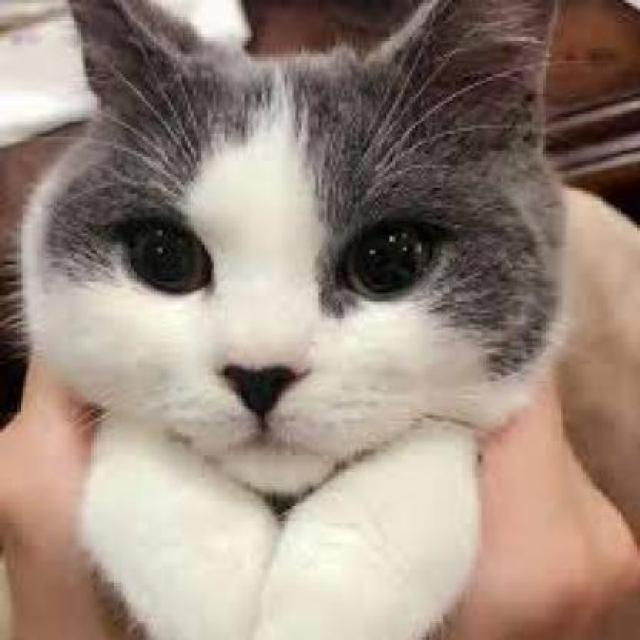cat: (20, 0, 566, 637)
